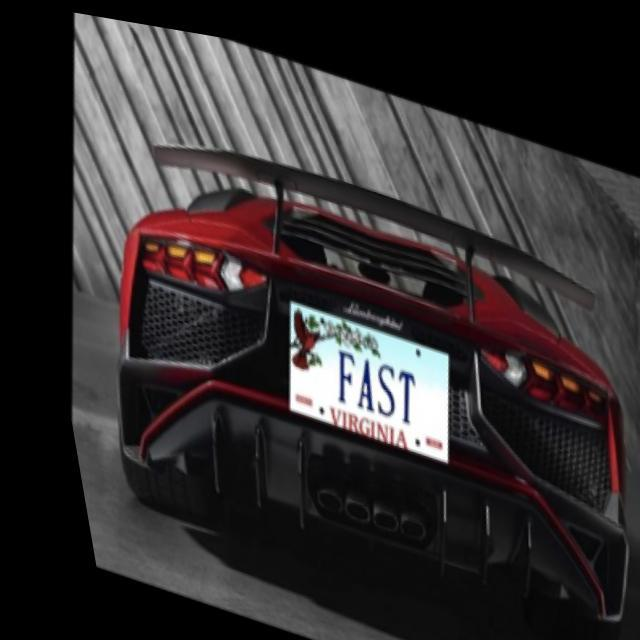license_plate: (256, 286, 453, 452)
